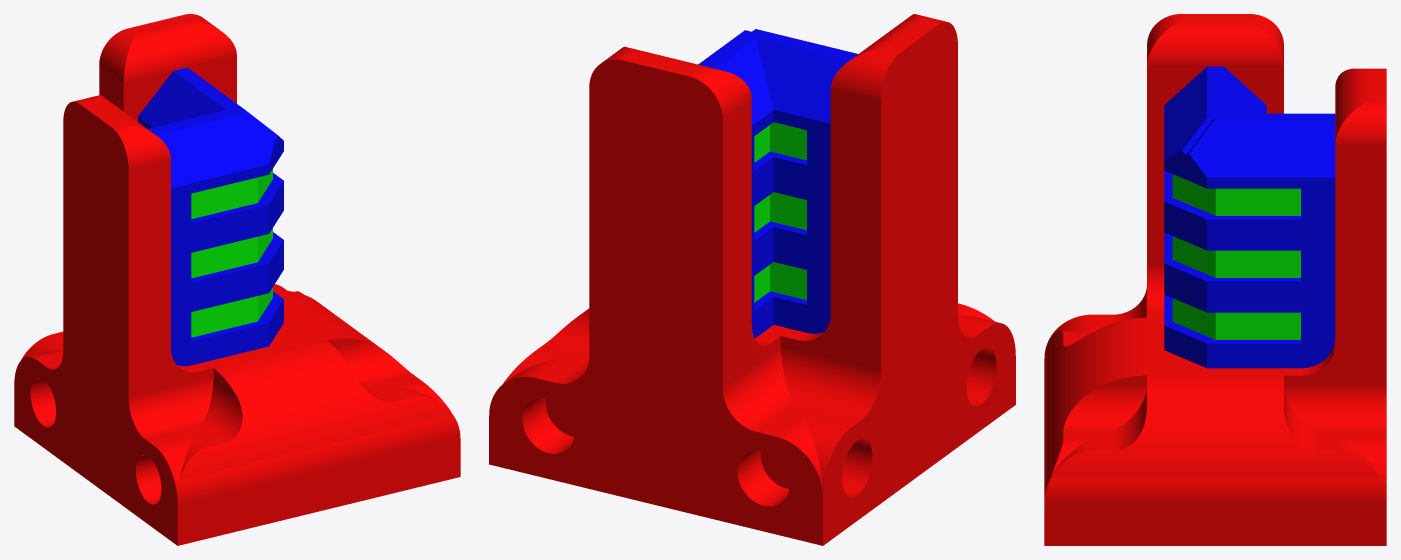
Rendered from shieldwall_corner_connector.gltf.
The picture shows the model from 3 angles, left to right: view 1: azimuth 30°, elevation 25°; view 2: azimuth 150°, elevation 25°; view 3: azimuth 270°, elevation 25°; orthographic projection. The views are drawn at different scales.
Parts seen in each view (by area): view 1: frame, ef0b5c8a-156f-11f1-9ab1-acf46620c64a, window; view 2: frame, ef0b5c8a-156f-11f1-9ab1-acf46620c64a, window; view 3: frame, ef0b5c8a-156f-11f1-9ab1-acf46620c64a, window.
Part boxes in pixels (x1,y1,x2,y2): frame: [14, 14, 460, 545]; ef0b5c8a-156f-11f1-9ab1-acf46620c64a: [138, 67, 283, 366]; window: [191, 169, 272, 337]; frame: [489, 14, 1015, 545]; ef0b5c8a-156f-11f1-9ab1-acf46620c64a: [698, 29, 857, 338]; window: [754, 122, 806, 302]; frame: [1044, 14, 1386, 545]; ef0b5c8a-156f-11f1-9ab1-acf46620c64a: [1164, 66, 1335, 368]; window: [1172, 174, 1300, 339].
Bounding box in the file's own units: 20 × 25 × 20.
